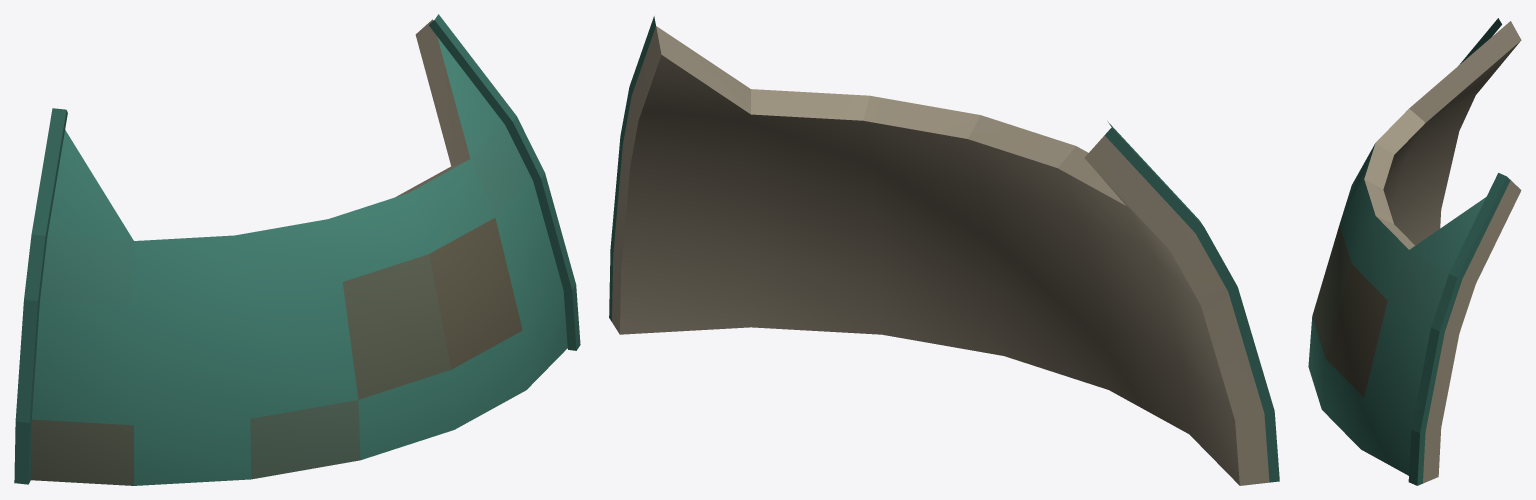
File: dome.panel_4_broken.copper.glb
The picture shows the model from 3 angles, left to right: view 1: azimuth 30°, elevation 25°; view 2: azimuth 150°, elevation 25°; view 3: azimuth 270°, elevation 25°; orthographic projection. The views are drawn at different scales.
Parts seen in each view (by area): view 1: dome_panel_4_broken_copper; view 2: dome_panel_4_broken_copper; view 3: dome_panel_4_broken_copper.
Part boxes in pixels (bbox=[...]): dome_panel_4_broken_copper: bbox=[14, 14, 580, 485]; dome_panel_4_broken_copper: bbox=[609, 16, 1279, 485]; dome_panel_4_broken_copper: bbox=[1308, 18, 1521, 485].
Size of what is drawn, in the model's own units: 5.05 by 2.68 by 1.91.
